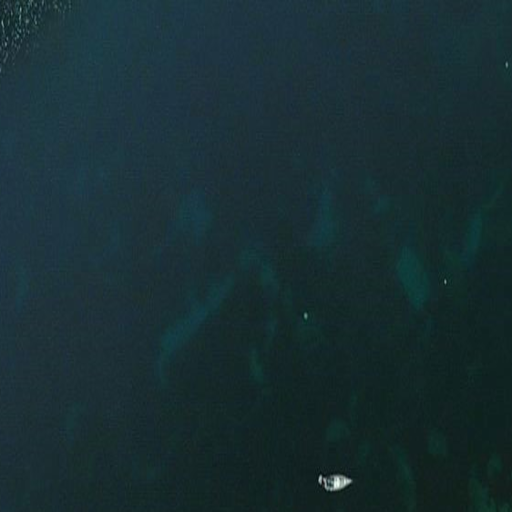ship: (315, 470, 355, 495)
